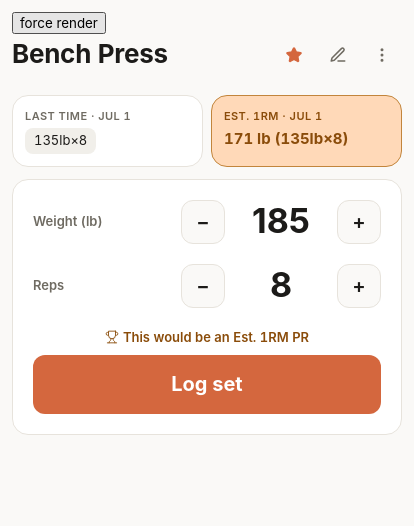
Test: ExerciseDetail PR badge folds in sets that have not synced yet › badges a genuine PR logged during lie-fi (summary fetch attempted but failing)
The image size is (414, 526).
Expected: the text "171 lb (135lb×8)" is shown, [224, 129, 348, 148]
Click the button "Log set" at (207, 384), box [33, 355, 381, 414]
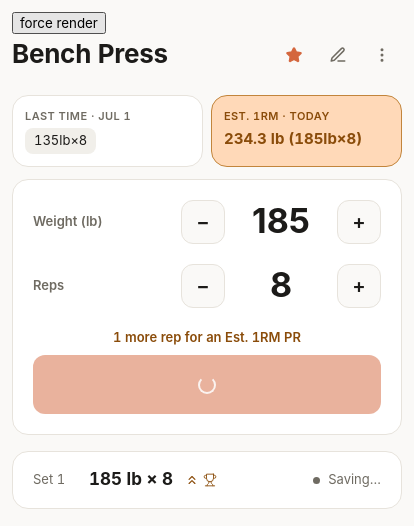
Result: the text "185 lb × 8" is shown at [89, 467, 173, 493]
Result: the text "234.3 lb (185lb×8)" is shown at [224, 129, 362, 148]
Result: the element titled "Personal record" is shown at [185, 473, 217, 487]
